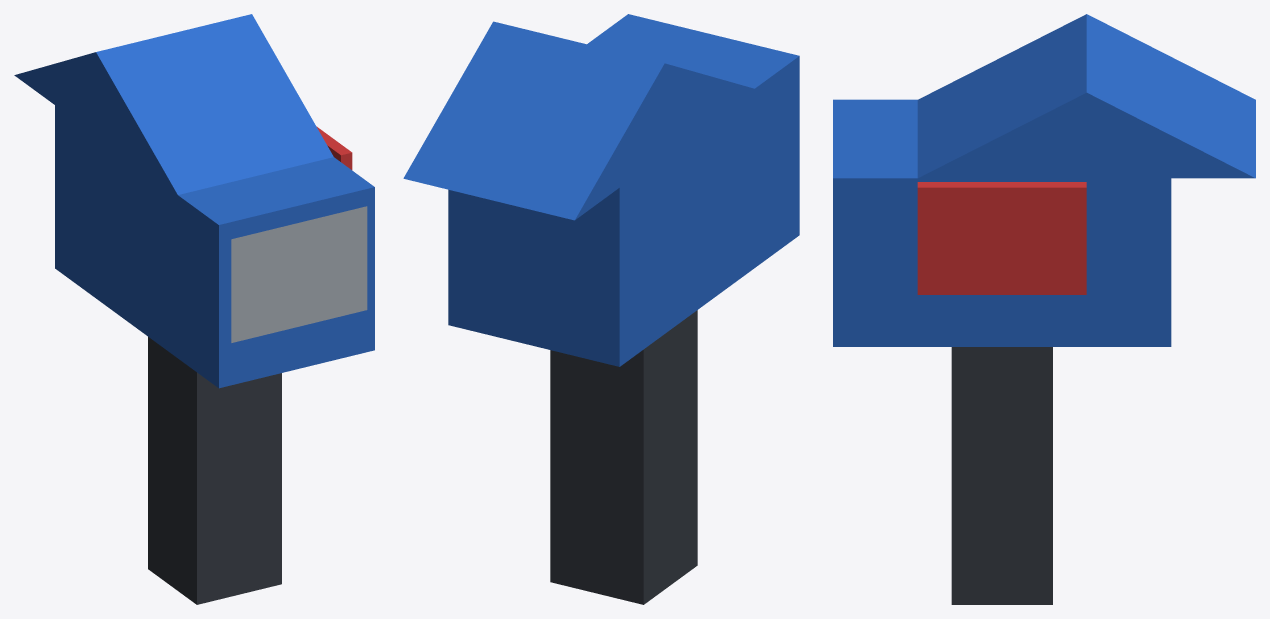
Rendered from mailbox.glb.
3 renders of one model, left to right at view 1: azimuth 30°, elevation 25°; view 2: azimuth 150°, elevation 25°; view 3: azimuth 270°, elevation 25°, orthographic. The views are drawn at different scales.
Parts seen in each view (by area): view 1: mailbox; view 2: mailbox; view 3: mailbox.
Part boxes in pixels (x1=…): mailbox: x1=14, y1=14, x2=374, y2=604; mailbox: x1=403, y1=14, x2=799, y2=604; mailbox: x1=833, y1=14, x2=1255, y2=604.
Bounding box in the file's own units: 0.0615 × 0.173 × 0.1265.
